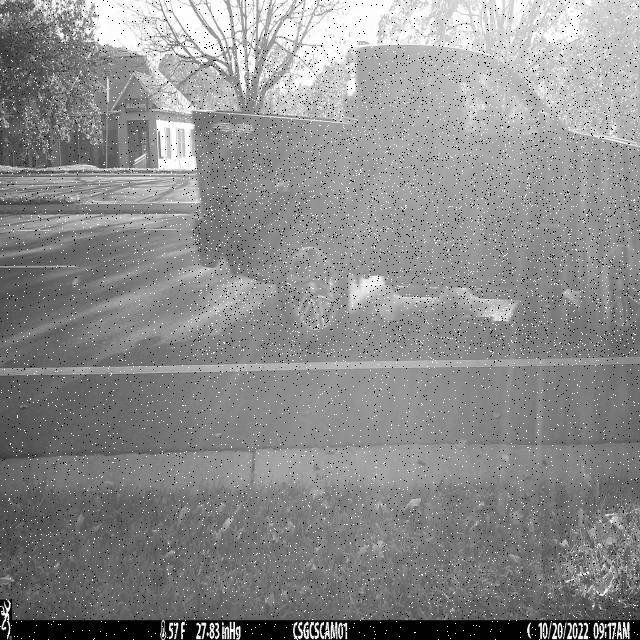Pickup: (191, 44, 640, 358)
